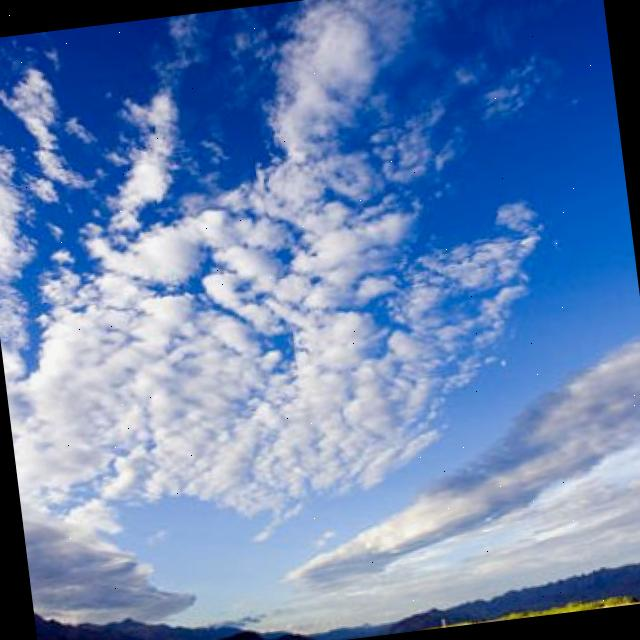Cc: (1, 1, 640, 456)
